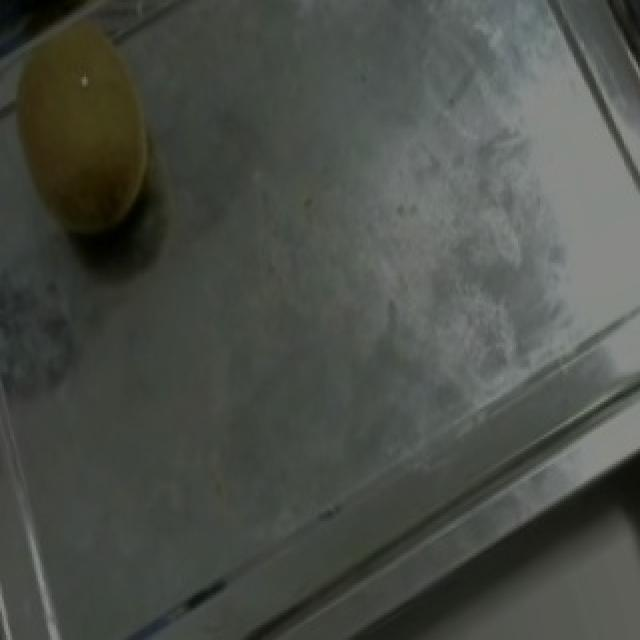Fruit: (0, 0, 194, 256)
